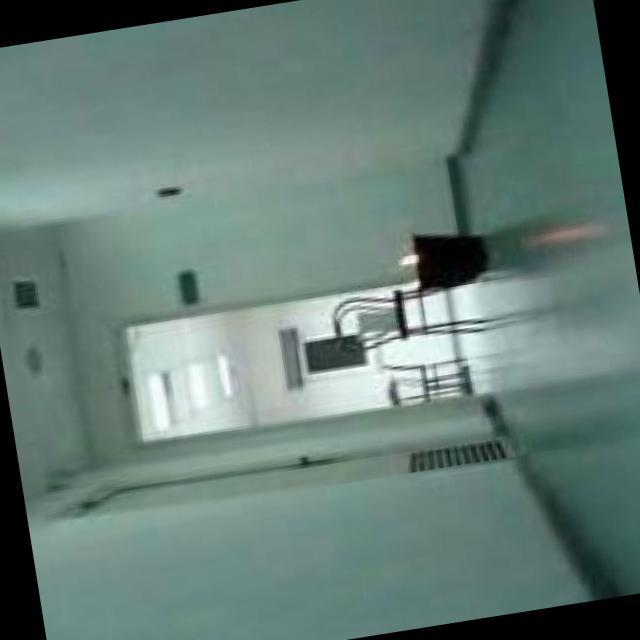Fire: (401, 248, 424, 273)
